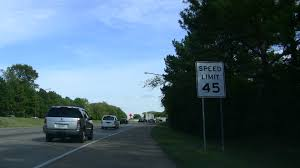speedLimit45: (195, 58, 226, 99)
